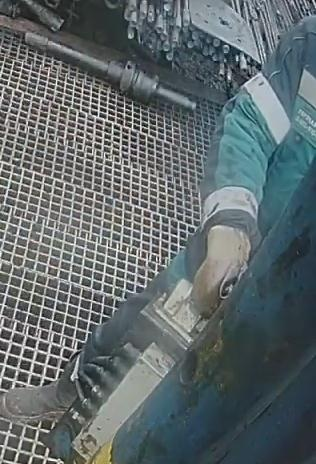gloves: (189, 210, 251, 315)
vest: (205, 18, 315, 223)
